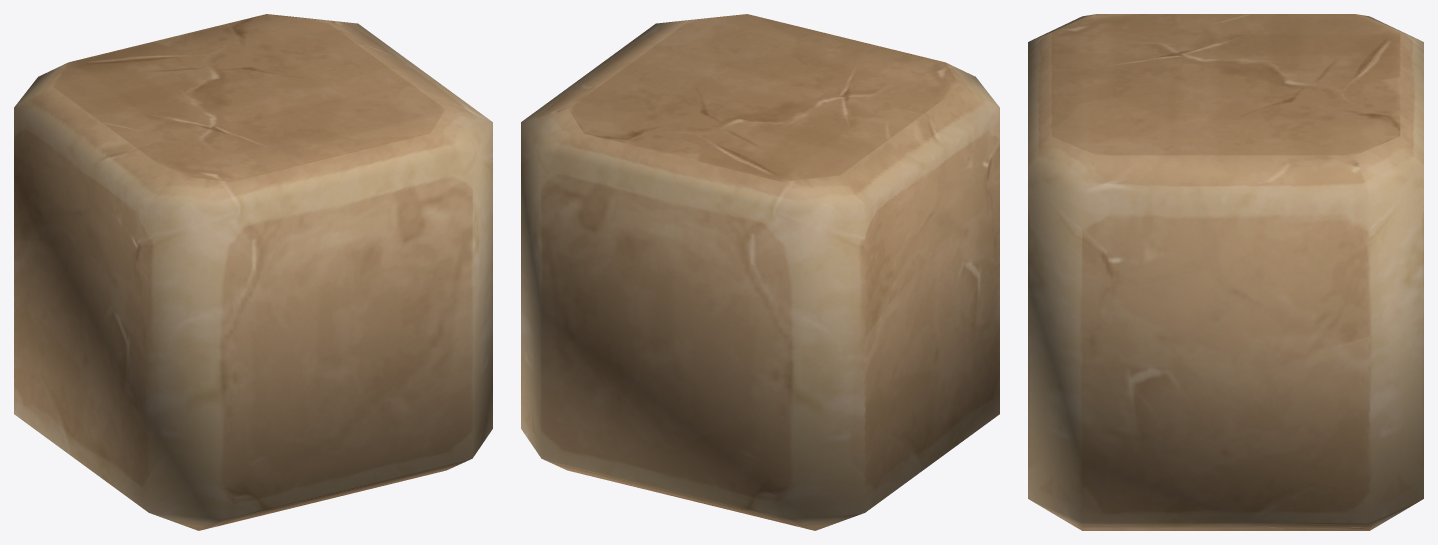
Rendered from DE_House_Mod_Part_66.fbx.
3 views of the same model, side by side, from view 1: azimuth 30°, elevation 25°; view 2: azimuth 150°, elevation 25°; view 3: azimuth 270°, elevation 25° (orthographic). The views are drawn at different scales.
Visible parts, largest first — view 1: DE_House_Mod_Part_66; view 2: DE_House_Mod_Part_66; view 3: DE_House_Mod_Part_66.
Boxes of the visible parts, x1,y1,x2,y2 form: DE_House_Mod_Part_66: [14, 14, 492, 530]; DE_House_Mod_Part_66: [521, 14, 999, 530]; DE_House_Mod_Part_66: [1028, 14, 1423, 530].
Bounding box in the file's own units: 0.7213 × 0.711 × 0.6737.
